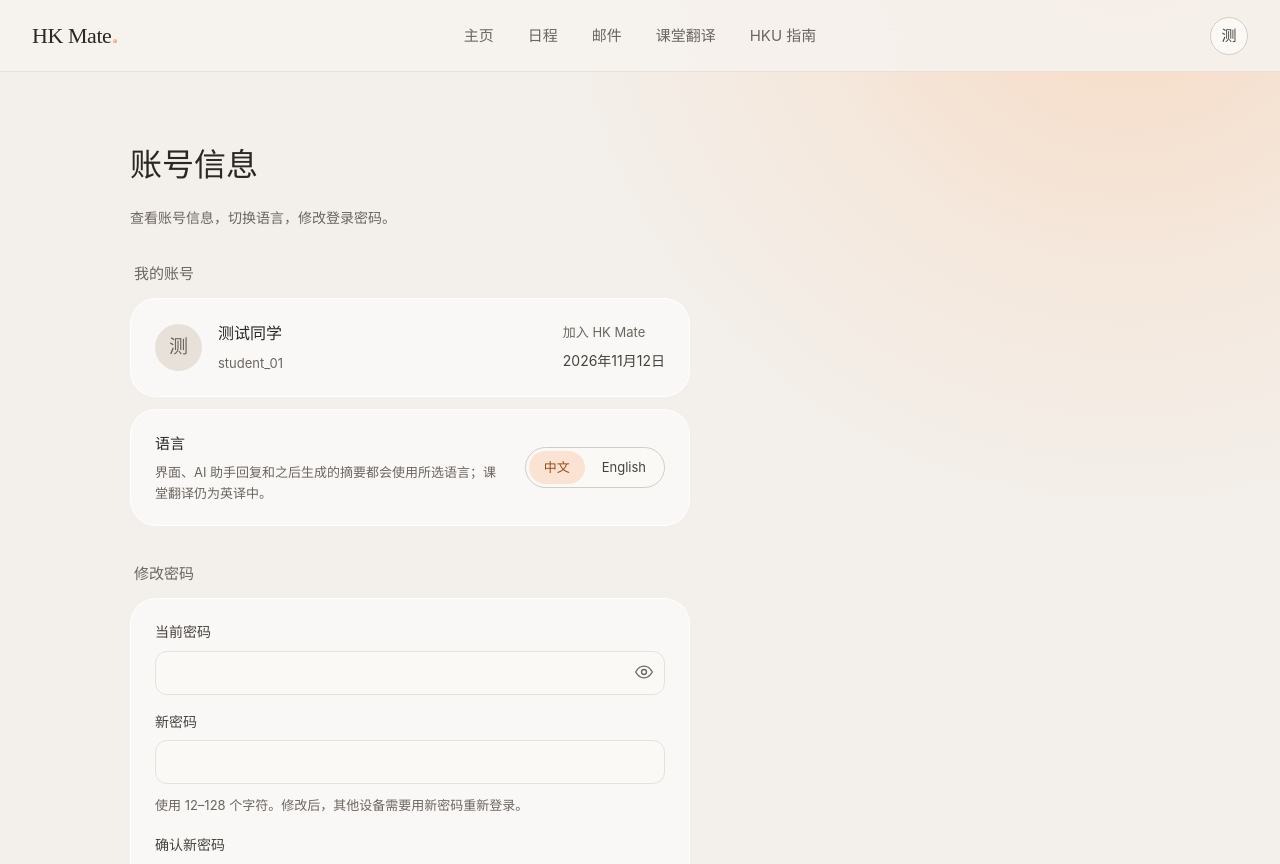
Test case: account pages › reopens the page named in the address after a reload
Expected: the heading "账号信息" is shown, [130,145,258,184]
Click the button "主页". click: (479, 36)
box: [450,16,508,56]
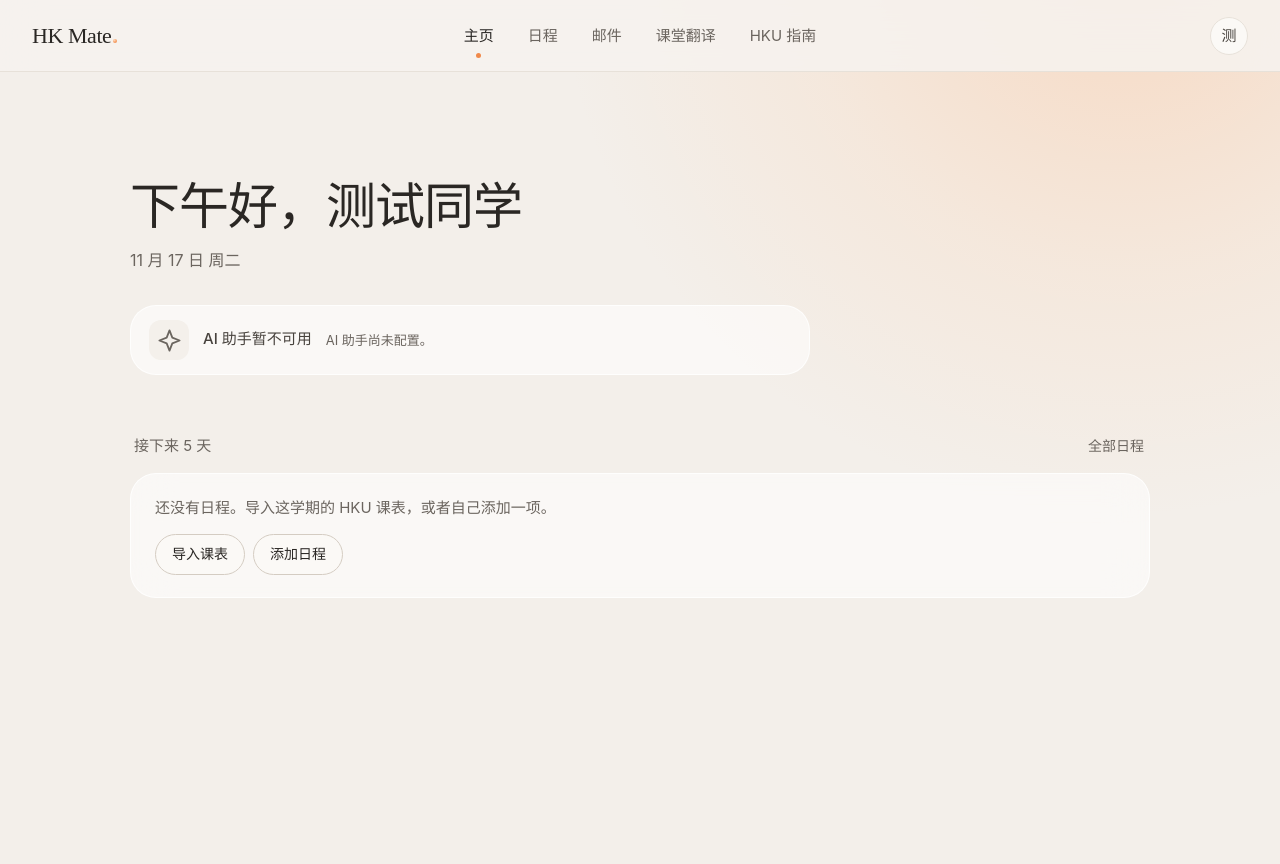
Now the heading "下午好，测试同学" is shown, box [130,176,522,236]
